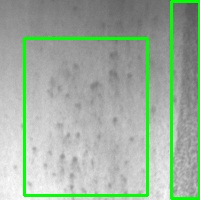pitted_surface: (24, 38, 147, 195), (171, 1, 199, 198)
